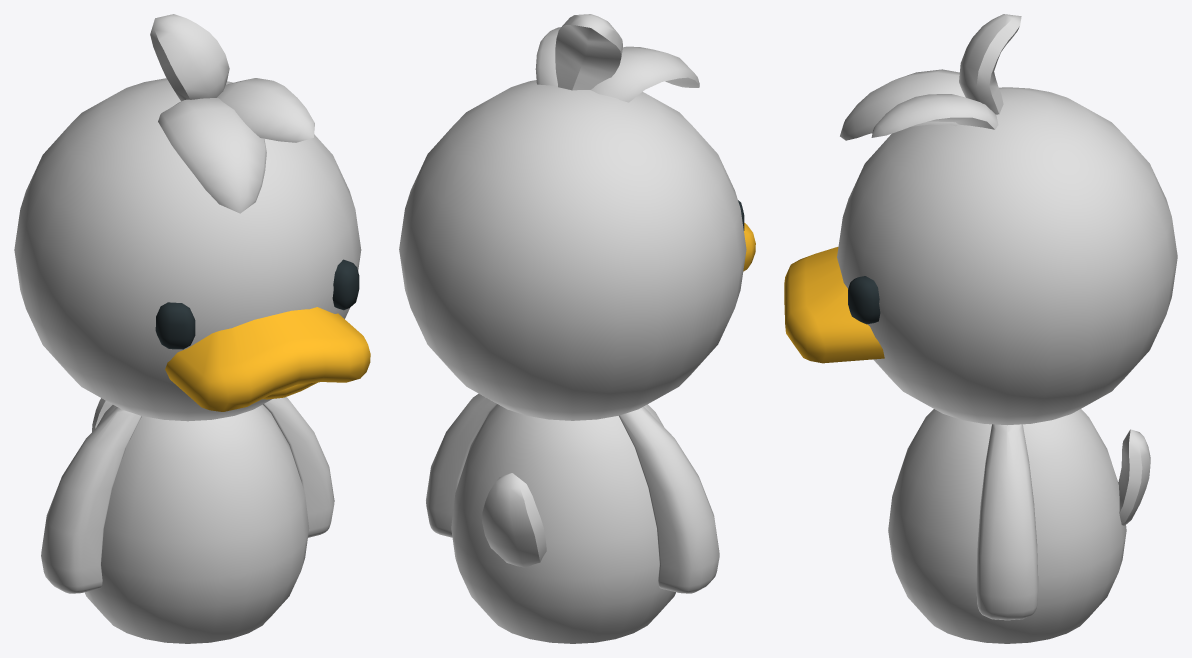
File: duck-transformed.glb
The picture shows the model from 3 angles, left to right: view 1: azimuth 30°, elevation 25°; view 2: azimuth 150°, elevation 25°; view 3: azimuth 270°, elevation 25°; orthographic projection.
Parts seen in each view (by area): view 1: character_duck, character_duckHead; view 2: character_duck; view 3: character_duck, character_duckHead.
Boxes of the visible parts, bbox=[...] form: character_duck: bbox=[14, 14, 361, 643]; character_duckHead: bbox=[155, 259, 370, 411]; character_duck: bbox=[399, 14, 746, 643]; character_duck: bbox=[837, 14, 1177, 643]; character_duckHead: bbox=[784, 247, 884, 363].
Size of the model in its own units: 1 by 1.89 by 1.15.
